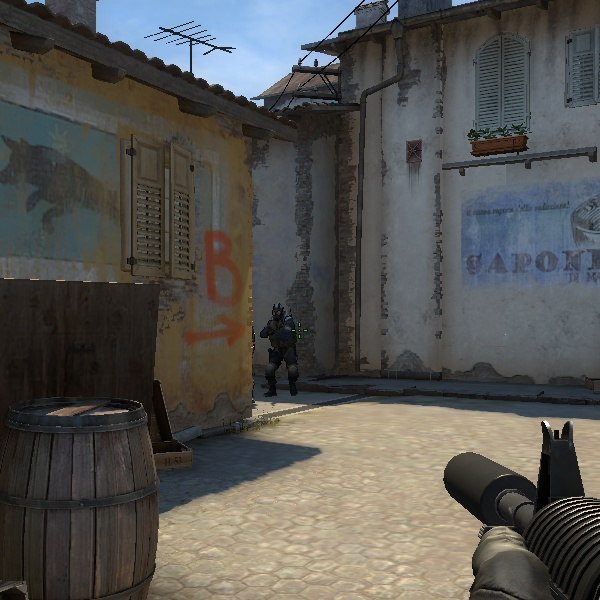ct_body: (252, 301, 307, 400)
